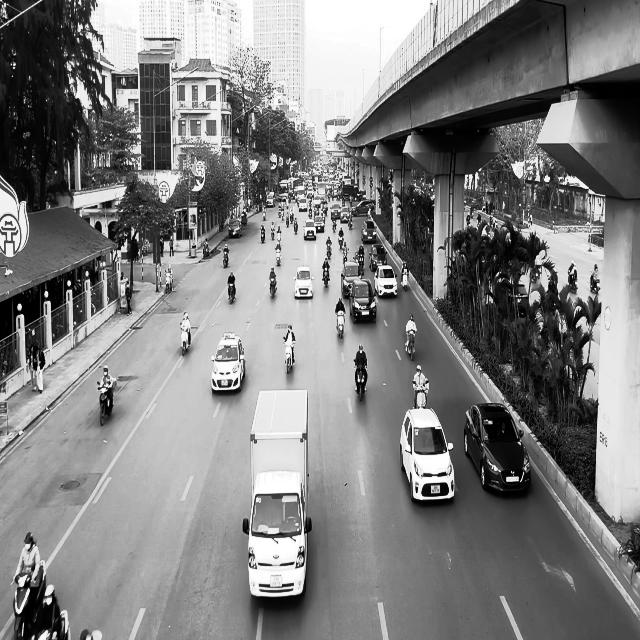car: (463, 402, 531, 494), (399, 407, 455, 503), (210, 332, 246, 393), (349, 278, 377, 323), (374, 264, 398, 298), (341, 261, 363, 297), (293, 266, 314, 298), (362, 220, 376, 242), (228, 218, 241, 238), (303, 219, 316, 239)
motorbike: (96, 377, 116, 425), (354, 360, 367, 400), (412, 379, 429, 409), (283, 337, 295, 374), (405, 330, 416, 360), (335, 309, 345, 338), (180, 328, 190, 356), (590, 271, 600, 294), (568, 272, 578, 294), (269, 275, 277, 298), (322, 262, 329, 286), (228, 282, 235, 304), (275, 246, 282, 266), (222, 248, 229, 268), (401, 270, 408, 290), (202, 242, 210, 258), (260, 228, 265, 243)
truck: (242, 388, 312, 599)
